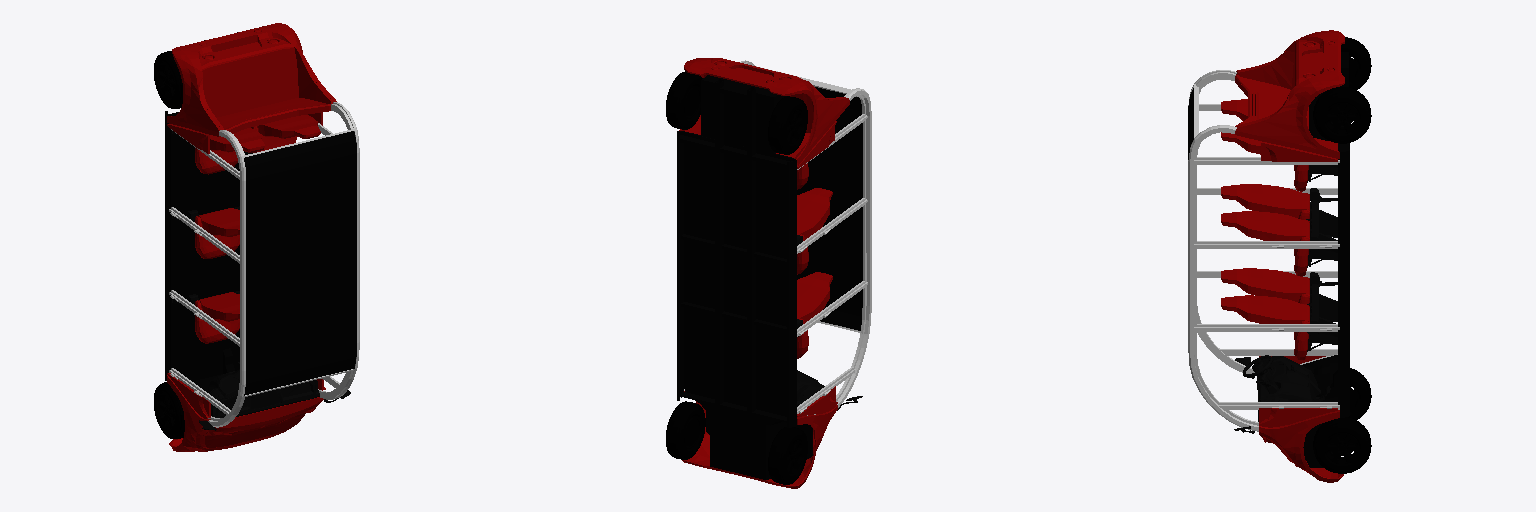
File: hailbopp.obj
The picture shows the model from 3 angles: view 1: azimuth 30°, elevation 25°; view 2: azimuth 150°, elevation 25°; view 3: azimuth 270°, elevation 25°; orthographic projection.
Visible parts, largest first — view 1: SM_HaleBopp; view 2: SM_HaleBopp; view 3: SM_HaleBopp.
Boxes of the visible parts, x1,y1,x2,y2 form: SM_HaleBopp: [154, 23, 359, 451]; SM_HaleBopp: [666, 58, 871, 488]; SM_HaleBopp: [1188, 30, 1371, 482].
Size of the model in its own units: 1.68 by 4.38 by 1.82.